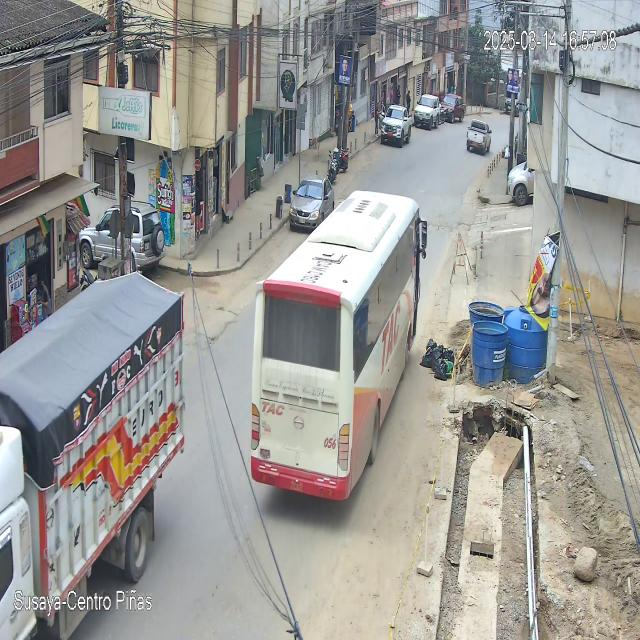BUS: (247, 190, 421, 504)
TRUCK: (0, 276, 186, 640)
